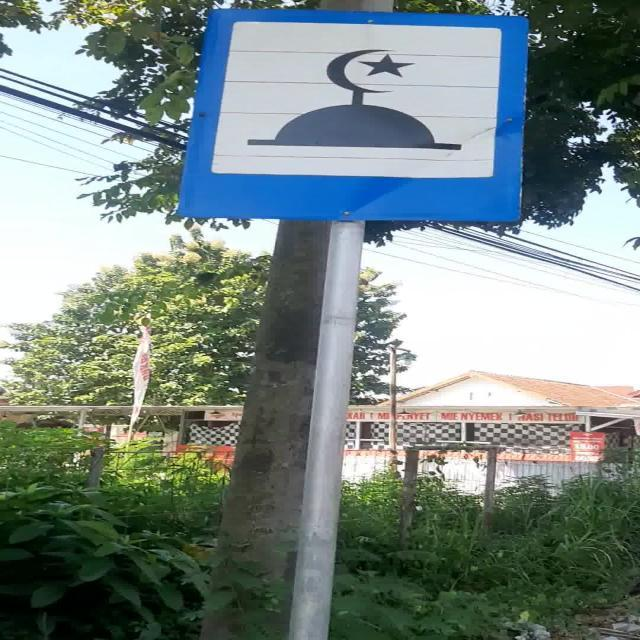Masjid: (179, 8, 527, 224)
